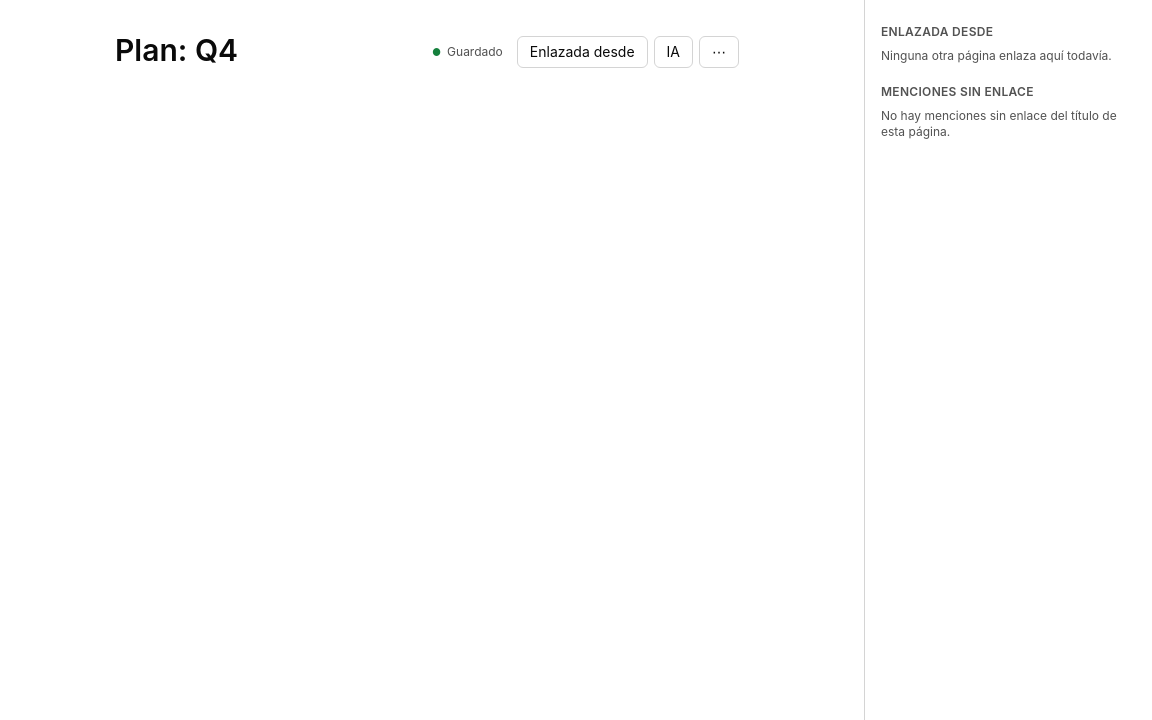
Scenario: Export Markdown › shows an error and downloads nothing when the export fails
Click the button named "Más acciones".
click(719, 52)  # box [699,36,739,68]
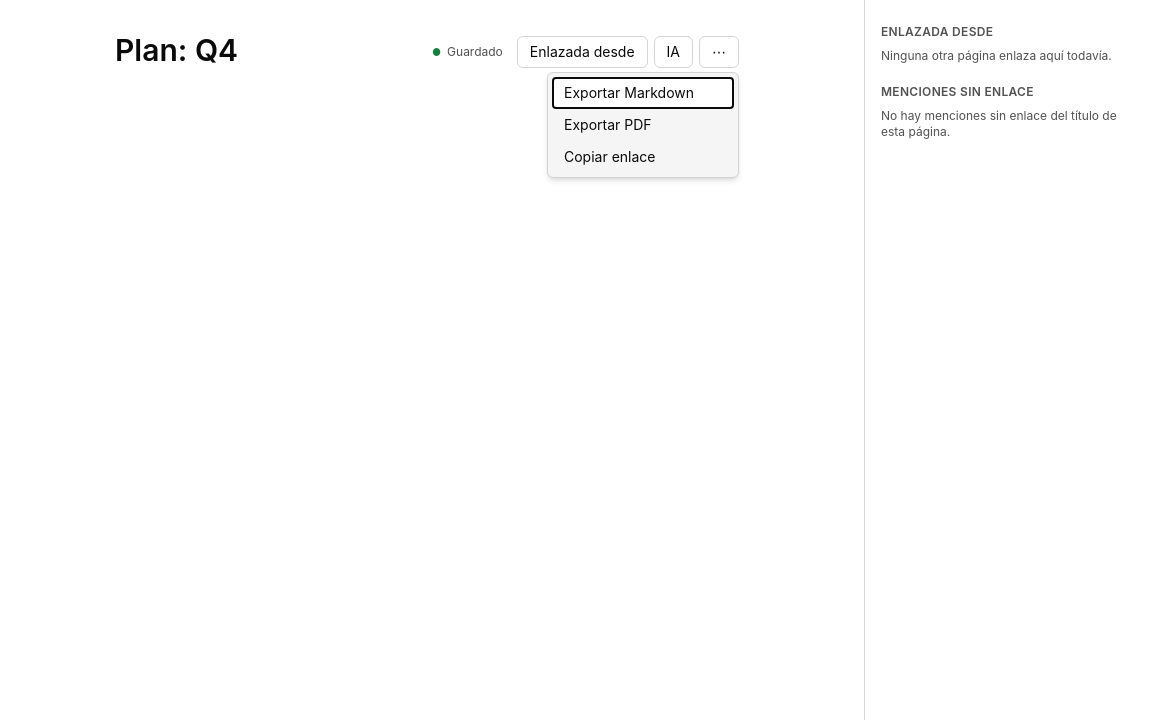
Click the menu item "Exportar Markdown".
click(643, 93)  # box [552,77,734,109]
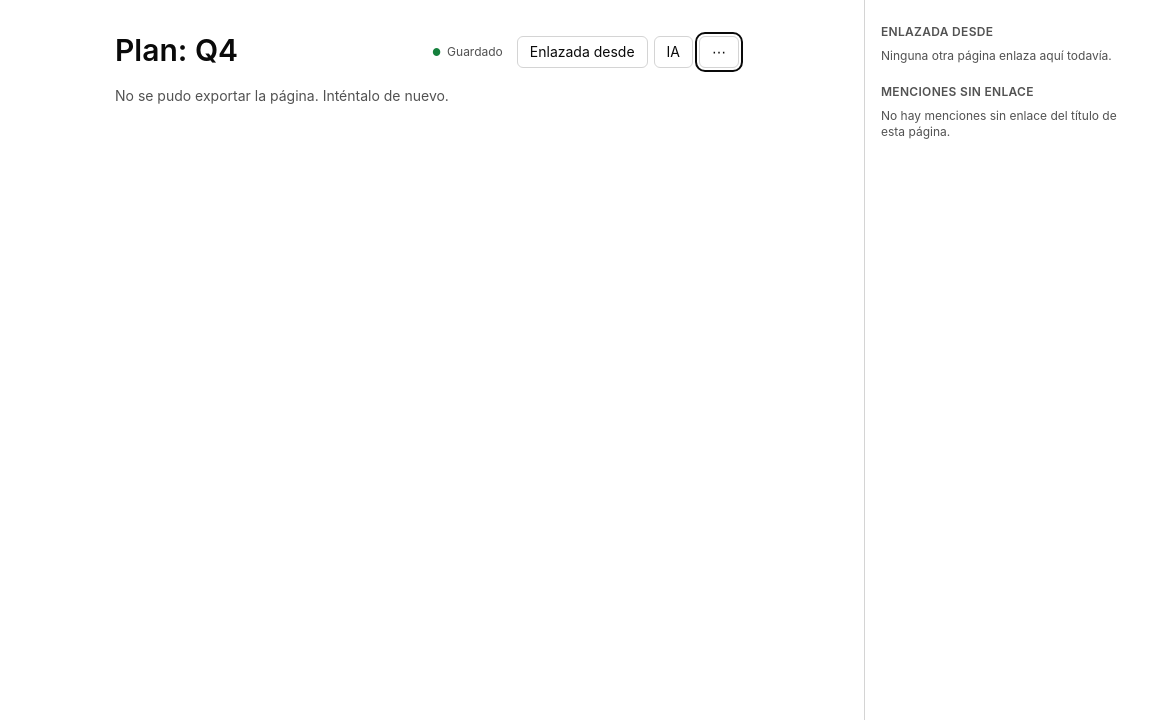
Now the message shows "No se pudo exportar", box [115,87,449,104]
